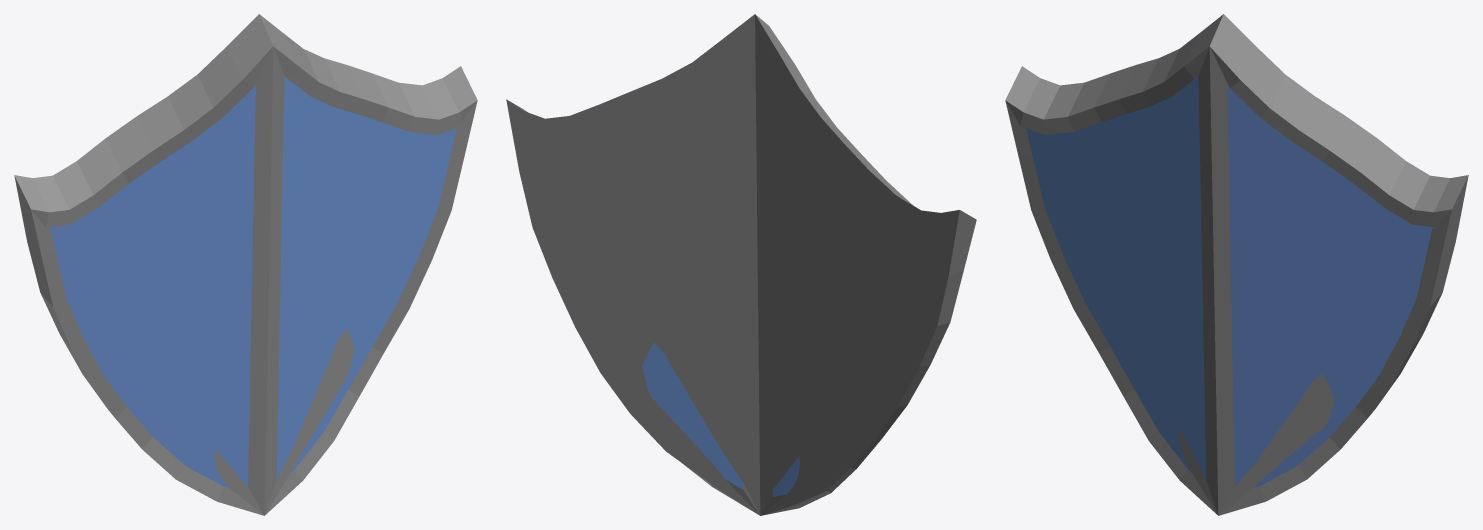
Rendered from ObjetoEscudoDeSalida.fbx.
3 renders of one model, left to right at view 1: azimuth 30°, elevation 25°; view 2: azimuth 150°, elevation 25°; view 3: azimuth 330°, elevation 25°, orthographic.
Parts seen in each view (by area): view 1: escudo; view 2: escudo; view 3: escudo.
Boxes of the visible parts, <box> form: escudo: <box>14,14,477,515</box>; escudo: <box>506,14,976,515</box>; escudo: <box>1005,14,1468,515</box>.
Bounding box in the file's own units: 54.11 × 57.66 × 7.49.
